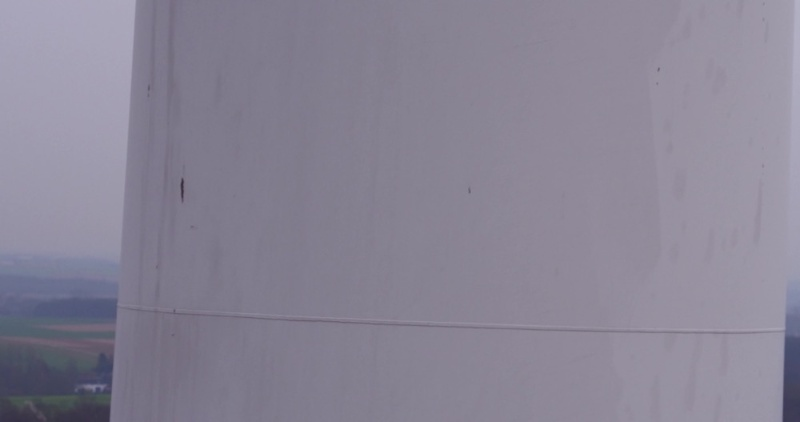weldseam: (109, 297, 791, 337)
